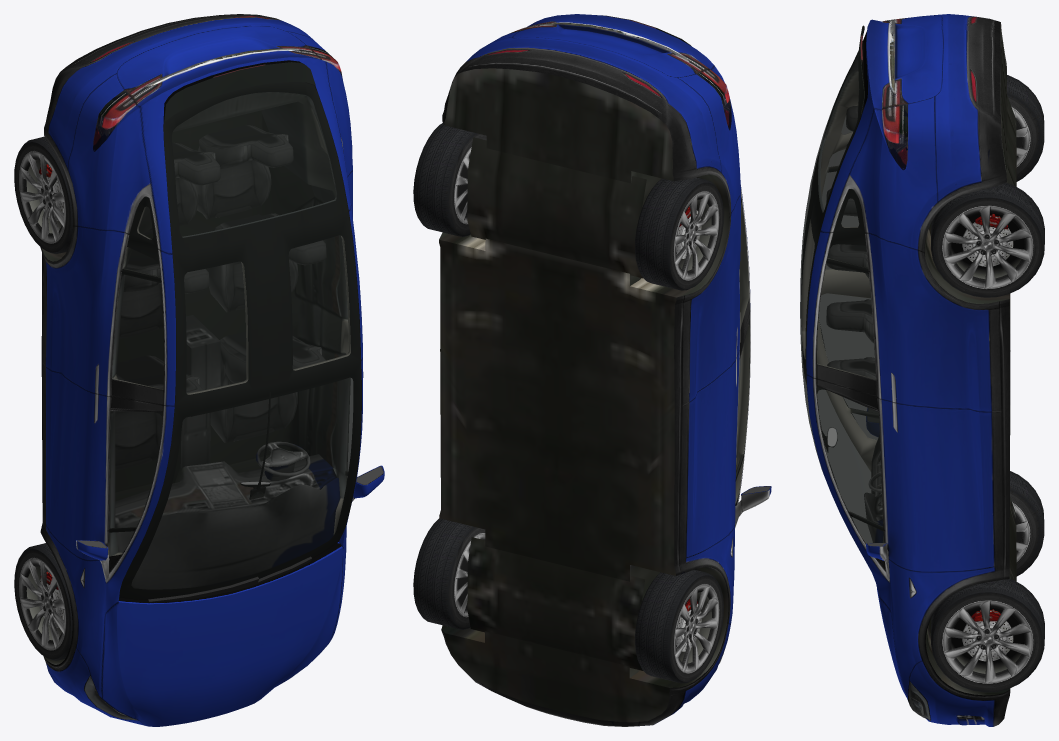
File: CarBlue.glb
The picture shows the model from 3 angles, left to right: view 1: azimuth 30°, elevation 25°; view 2: azimuth 150°, elevation 25°; view 3: azimuth 270°, elevation 25°; orthographic projection. The views are drawn at different scales.
Visible parts, largest first — view 1: object_car.002; view 2: object_car.002; view 3: object_car.002.
Part boxes in pixels (bbox=[...]): object_car.002: bbox=[14, 14, 384, 726]; object_car.002: bbox=[413, 14, 771, 726]; object_car.002: bbox=[800, 14, 1044, 726].
Bounding box in the file's own units: 2.38 × 5.07 × 1.7.
2 materials, 2 textured.
